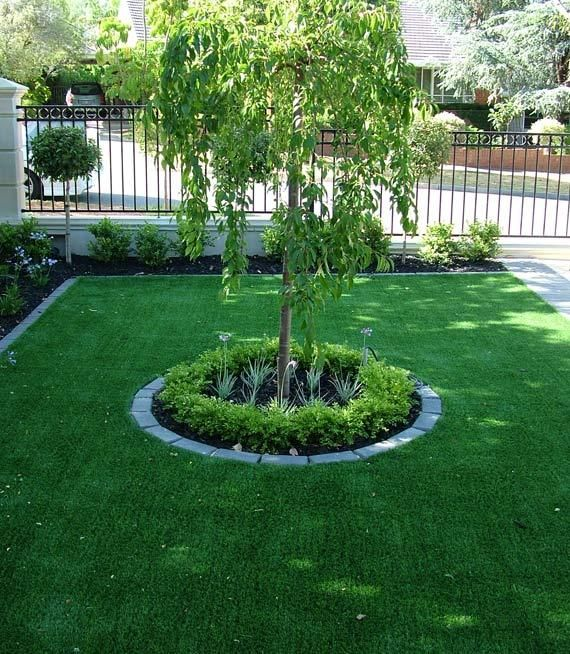tree: (133, 1, 440, 398)
